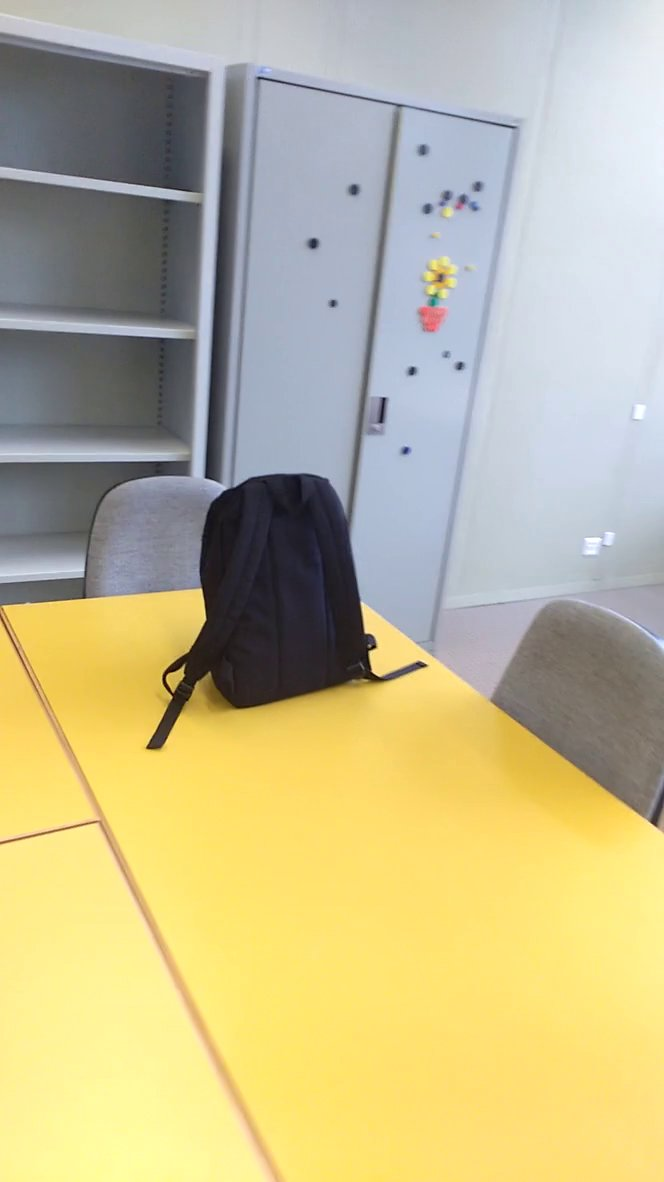bag: (142, 470, 432, 758)
chair: (468, 564, 664, 888), (41, 462, 258, 613)
